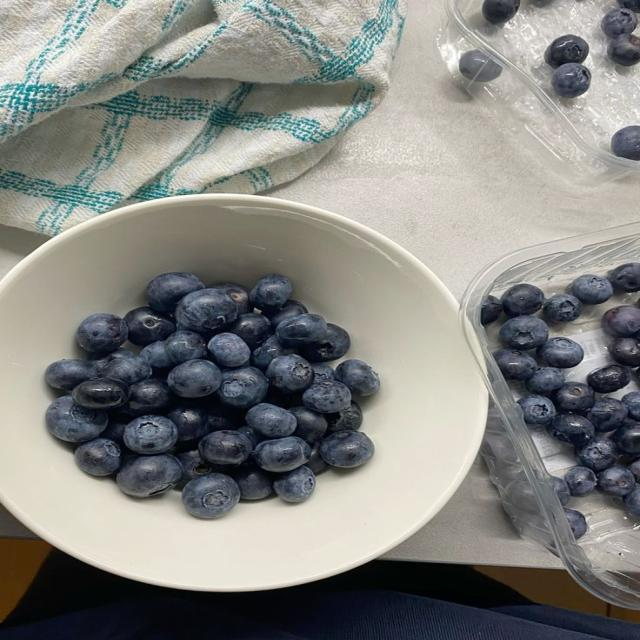blueberry: (116, 455, 183, 497), (46, 397, 107, 442), (175, 289, 237, 333), (182, 473, 239, 518), (147, 273, 204, 312), (124, 415, 178, 454), (217, 367, 268, 408), (76, 314, 127, 355), (254, 436, 311, 472), (167, 360, 222, 397), (125, 306, 175, 345), (320, 431, 374, 467), (301, 323, 350, 362), (199, 430, 252, 464), (267, 355, 313, 394), (123, 379, 172, 415), (246, 403, 296, 438), (75, 438, 121, 476), (73, 378, 129, 409), (45, 359, 99, 390), (228, 313, 273, 350), (276, 314, 326, 347), (167, 406, 210, 444), (500, 316, 548, 350), (335, 359, 379, 396), (575, 437, 619, 472), (303, 381, 351, 413), (251, 336, 295, 370), (549, 413, 594, 446), (274, 466, 315, 502), (208, 333, 251, 367), (102, 356, 152, 385), (505, 472, 539, 514), (250, 275, 292, 309), (537, 337, 583, 368), (545, 35, 589, 67), (289, 407, 327, 444), (501, 284, 544, 316), (459, 50, 502, 82), (552, 63, 591, 98), (587, 397, 627, 431), (166, 331, 207, 364), (567, 275, 613, 304), (234, 465, 273, 499), (494, 350, 537, 380), (263, 300, 307, 329), (554, 381, 595, 412), (212, 284, 252, 315), (587, 365, 631, 393), (178, 450, 213, 484), (602, 305, 639, 337), (326, 401, 363, 433), (598, 465, 634, 497), (518, 395, 556, 425), (92, 348, 134, 375), (543, 294, 582, 322), (526, 367, 565, 395), (601, 8, 637, 37), (607, 34, 639, 66), (207, 404, 243, 431), (565, 466, 596, 497), (611, 126, 639, 160), (140, 341, 174, 369), (100, 414, 130, 445), (613, 421, 639, 456), (608, 263, 639, 292), (482, 0, 519, 24), (608, 338, 639, 366), (564, 508, 587, 540), (307, 442, 327, 474), (481, 295, 502, 325), (236, 426, 261, 448), (553, 477, 571, 506), (623, 488, 639, 518), (312, 363, 335, 383), (618, 0, 639, 13), (628, 459, 639, 482)
